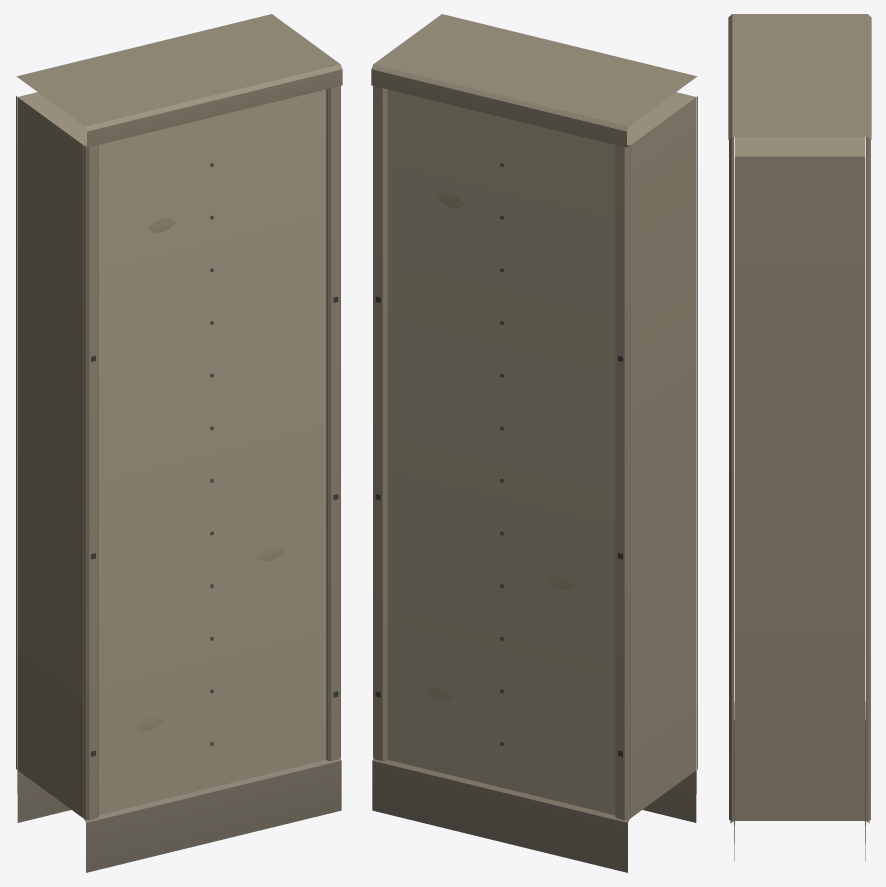
Rendered from plywood_mid.glb.
3 views of the same model, side by side, from view 1: azimuth 30°, elevation 25°; view 2: azimuth 150°, elevation 25°; view 3: azimuth 270°, elevation 25° (orthographic).
Parts seen in each view (by area): view 1: plywood_mid; view 2: plywood_mid; view 3: plywood_mid.
Boxes of the visible parts, x1,y1,x2,y2 form: plywood_mid: (16,14,342,872); plywood_mid: (371,14,697,872); plywood_mid: (728,14,871,861).
Bounding box in the file's own units: 0.61 × 1.7 × 0.3.
